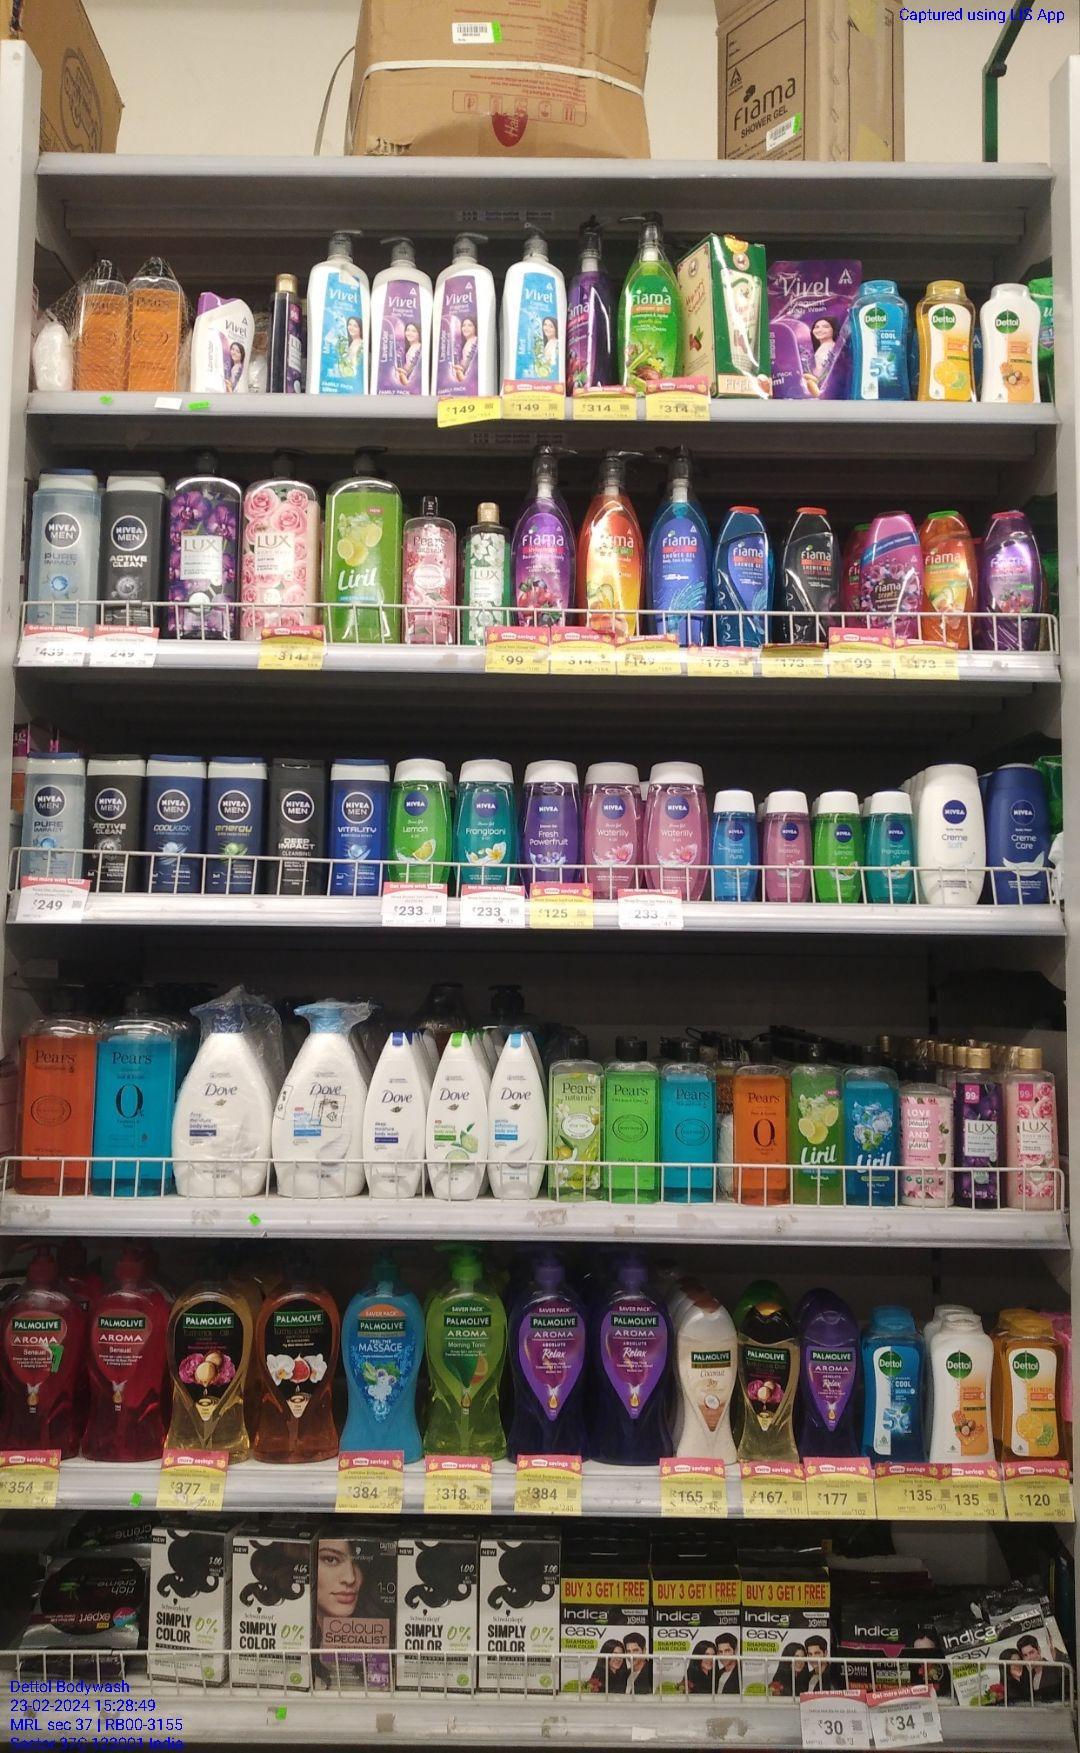Dettol_Bodywash_Cool: (862, 1310, 927, 1468), (853, 275, 911, 402)
Dettol_Bodywash_Refresh: (997, 1313, 1064, 1459), (917, 275, 979, 402)
Dettol_Nourish_Body_Wash_250ML: (929, 1306, 997, 1465), (979, 275, 1040, 406)
Dove_Deep_Moisture_Body_Wash_250ML: (365, 1028, 420, 1200)
Dove_Gentle_Exfoliating_Body_Wash_250ML: (487, 1022, 543, 1198)
Dove_Refreshing_Body_Wash_250ML: (425, 1029, 482, 1205)
Fiama_Shower_Gel_Peach_and_Avocado_250ML: (922, 506, 975, 645)
Liril_Cooling_Mint_Body_Wash_250ML: (848, 1027, 900, 1208)
Liril_Lime_and_Tea_Tree_Oil_Body_Wash_250ML: (788, 1034, 846, 1207)
Lux_Black_Orchid_Scent_and_Juniper_Oil_Body_Wash_245ML: (955, 1043, 1004, 1207)
Lux_Body_Wash_Skin_Detox_Freesia_Scent_and_Alove_Vera_245ML: (467, 497, 516, 631)
Nivea_Shower_Gel_Frangipani_and_Oil_250ML: (453, 758, 513, 884)
Nivea_Shower_Gel_Fresh_Powerfruit_250ML: (519, 756, 579, 883)
Nivea_Shower_Gel_Lemon_and_Oil_250ML: (392, 755, 451, 882)
Nivea_Shower_Gel_Waterlily_and_Oil_250ML: (644, 763, 710, 904), (582, 760, 642, 888)
Palmolive_Aroma_Relax_250ML: (805, 1321, 860, 1455)
Palmolive_Coconut_Joy_Exfoliating_Body_Wash_250ML: (680, 1302, 735, 1461)
Palmolive_Luminous_Oils_Invigorating_Macadamia_Oil_With_Peony_250ML: (736, 1303, 795, 1468)
Pears_Naturale_Aloe_Vera_Body_Wash_250ML: (549, 1033, 604, 1202)
Pears_Pure_Glycerin_and_Lemon_Flower_Extracts_Body_Wash_250ML: (604, 1037, 660, 1202)
Pears_Pure_Glycerin_and_Mint_Extracts_Body_Wash_250ML: (661, 1037, 720, 1203)
